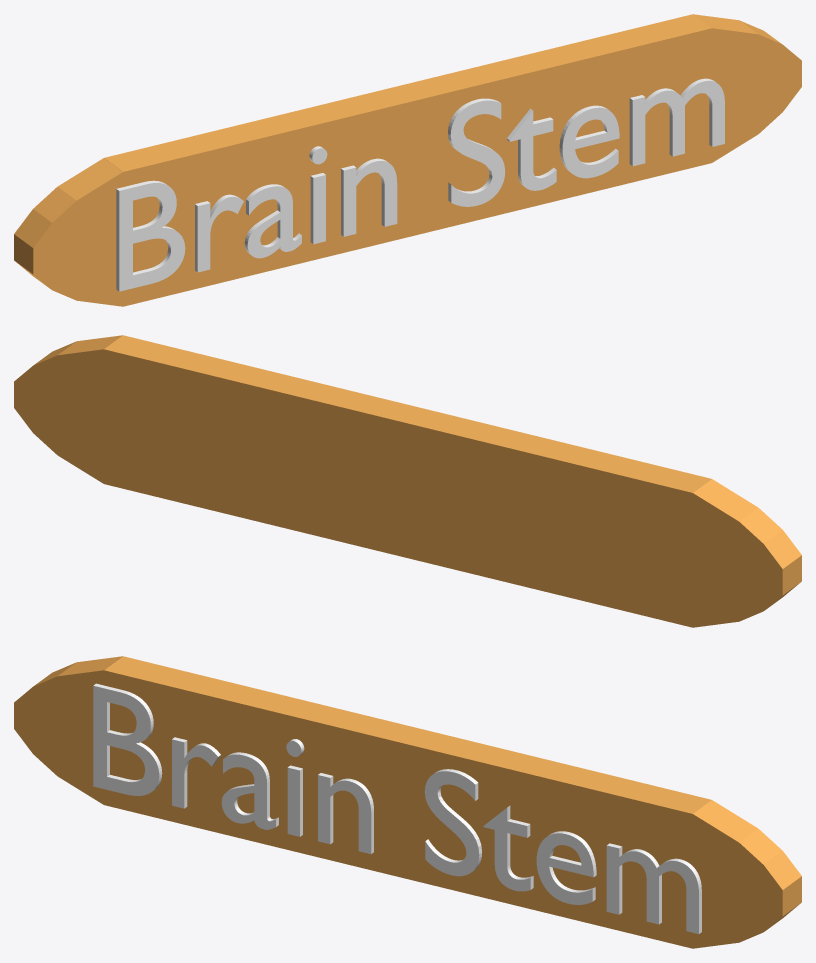
The model's file is txtBrainStem.fbx.
The picture shows the model from 3 angles, top to bottom: view 1: azimuth 30°, elevation 25°; view 2: azimuth 150°, elevation 25°; view 3: azimuth 330°, elevation 25°; orthographic projection.
Parts seen in each view (by area): view 1: TagContainer.030, Text.029; view 2: TagContainer.030; view 3: TagContainer.030, Text.029.
Part boxes in pixels (bbox=[...]): TagContainer.030: bbox=[14, 14, 801, 306]; Text.029: bbox=[116, 78, 724, 291]; TagContainer.030: bbox=[14, 335, 801, 627]; TagContainer.030: bbox=[14, 656, 801, 948]; Text.029: bbox=[93, 683, 701, 934].
Size of the model in its own units: 246 by 41.3 by 12.54.
